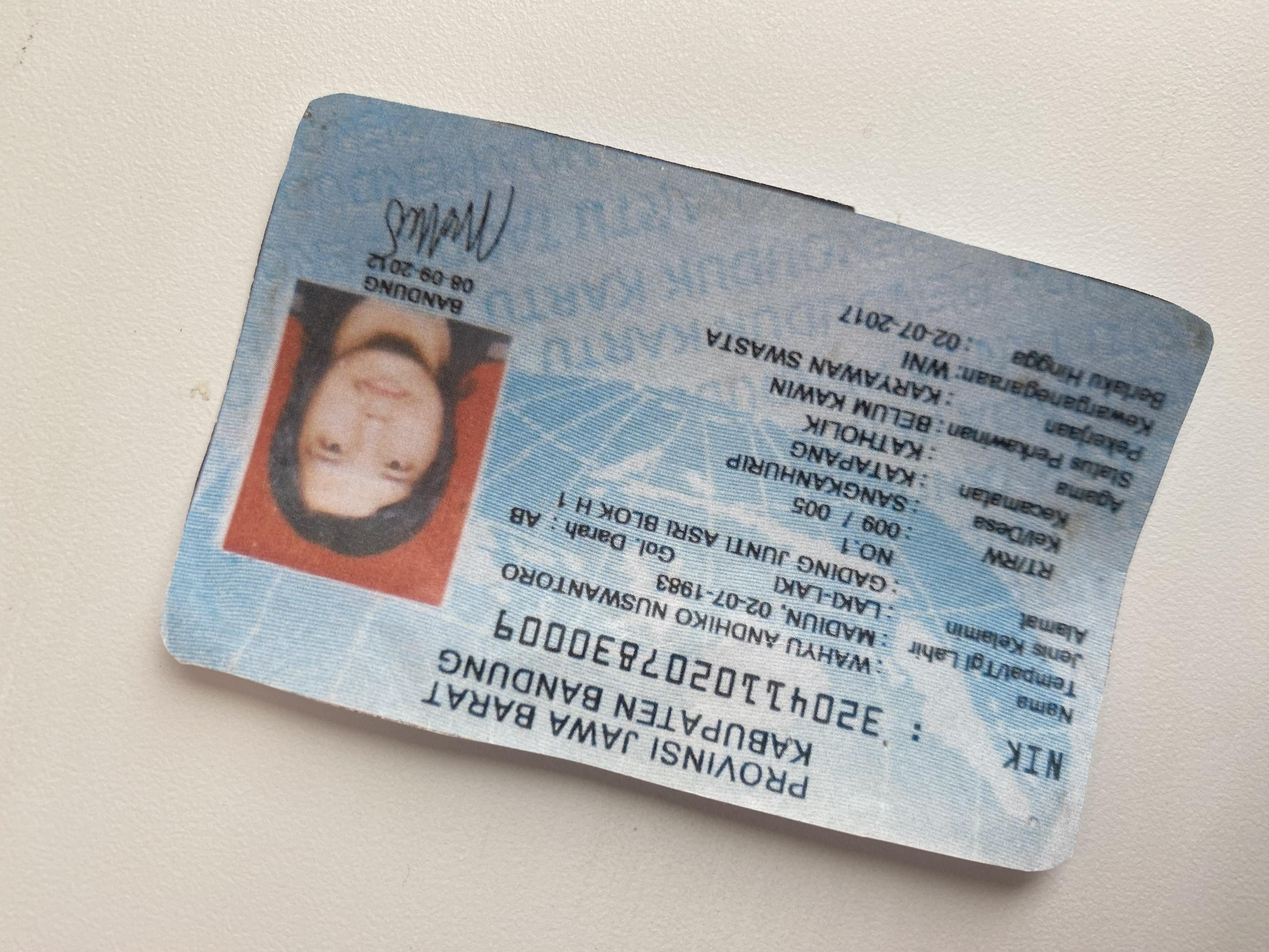ID-card: (92, 110, 1177, 906)
